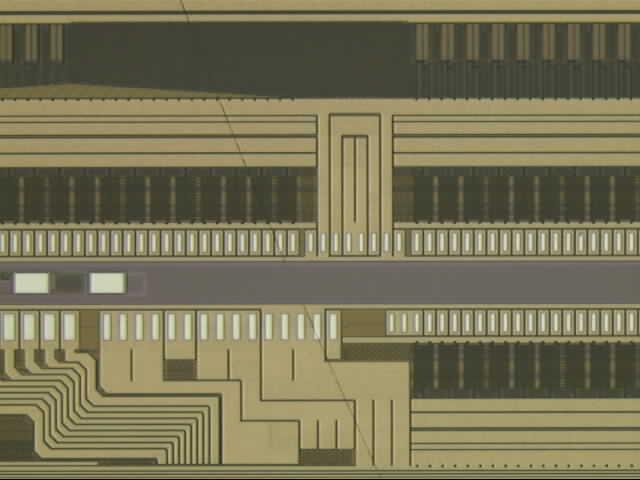SCRATCH: (169, 1, 391, 480)
